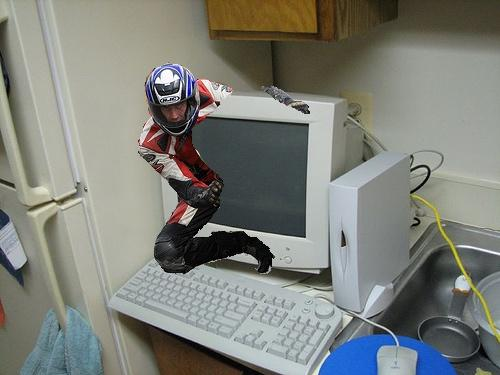tampered: (139, 63, 310, 274)
